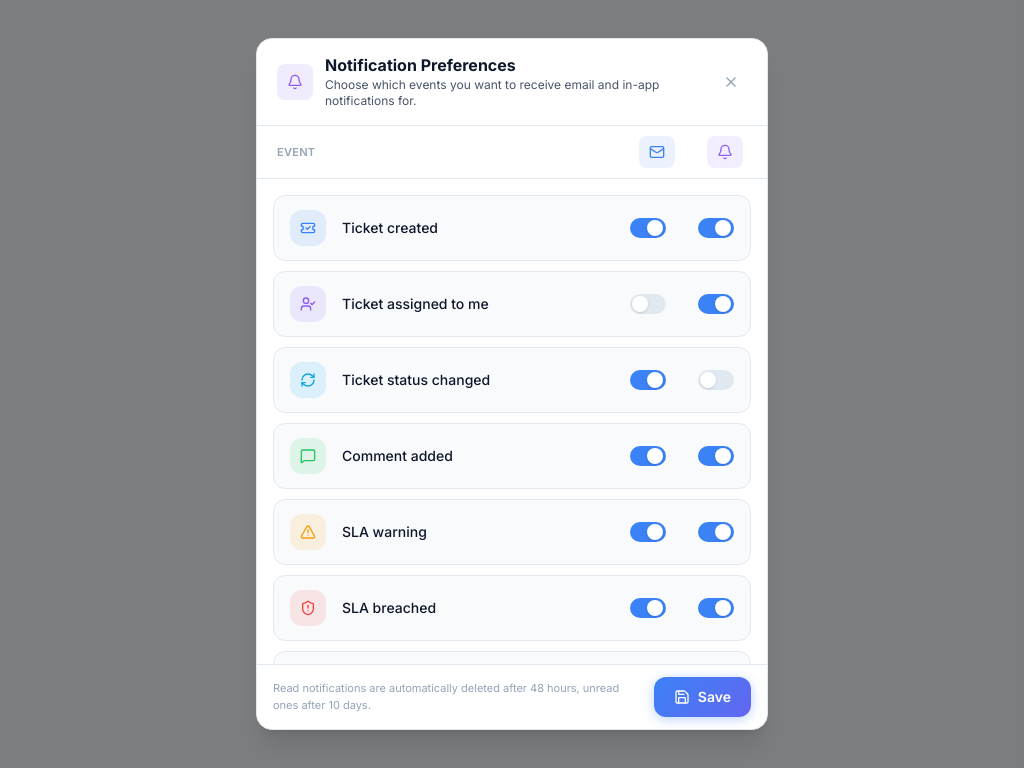
NotificationPreferencesModal › shows success feedback after successful save
Click the button "Save": click(702, 697) [654,677,751,717]
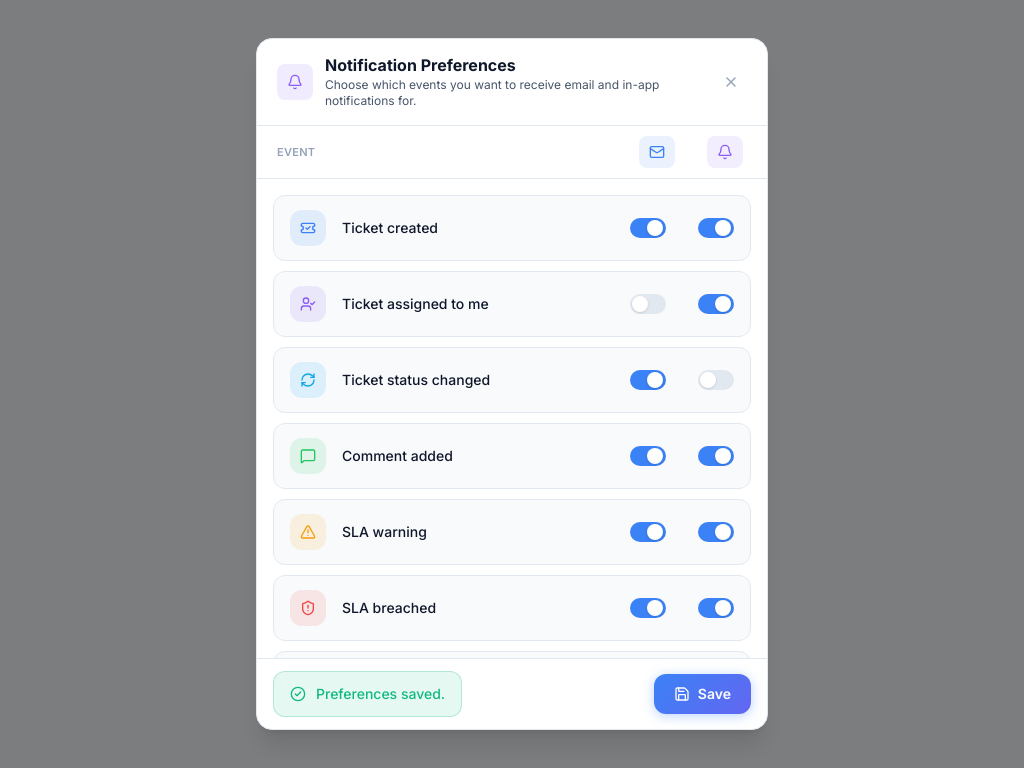
Expected: the text "Preferences saved." is shown, [273,671,462,717]
